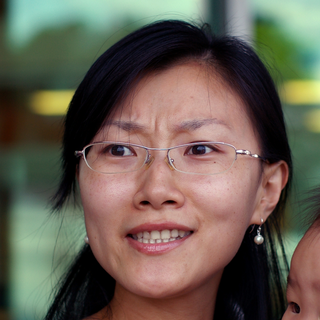eye: (178, 134, 228, 163), (95, 138, 139, 164)
